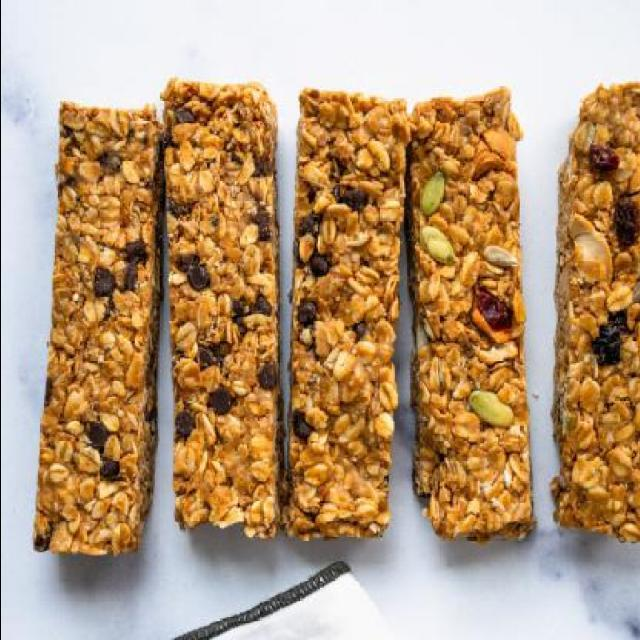Cereal bar packaged: (30, 93, 162, 575), (402, 81, 532, 552), (283, 74, 409, 550), (162, 72, 284, 556), (546, 69, 640, 536)
